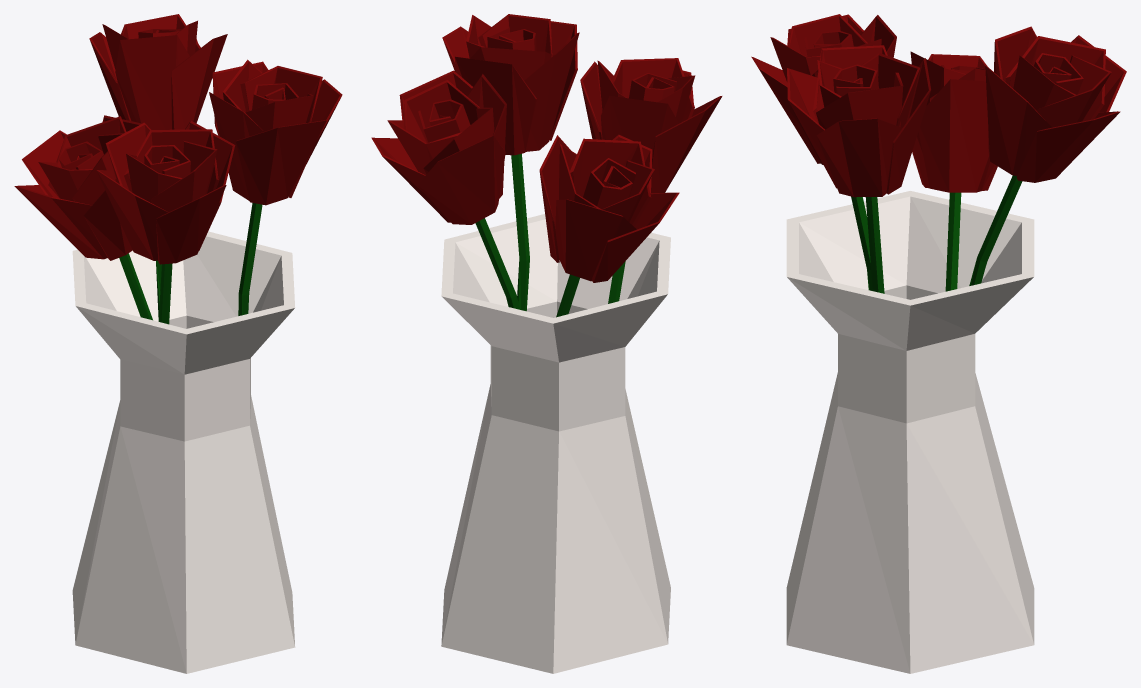
Rendered from vase.obj.
The picture shows the model from 3 angles, left to right: view 1: azimuth 30°, elevation 25°; view 2: azimuth 150°, elevation 25°; view 3: azimuth 270°, elevation 25°; orthographic projection. The views are drawn at different scales.
Bounding box in the file's own units: 4.8 × 9.64 × 5.53.
